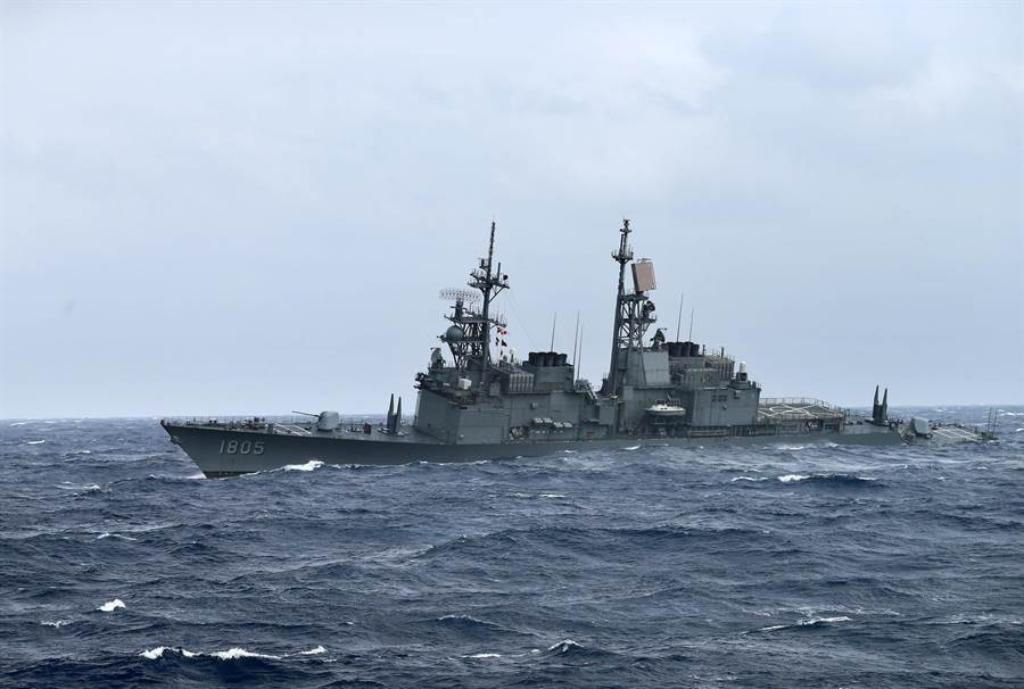Warship: (162, 213, 998, 481)
